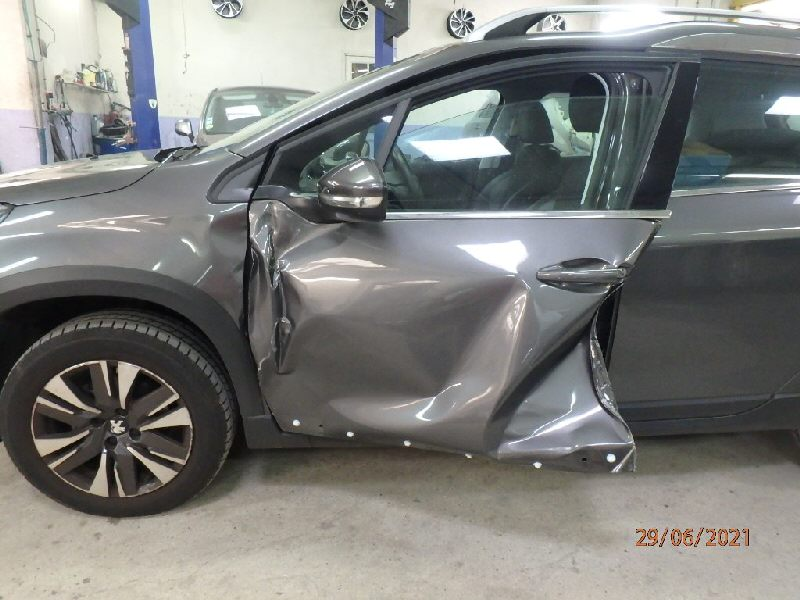front door: (205, 46, 707, 484)
